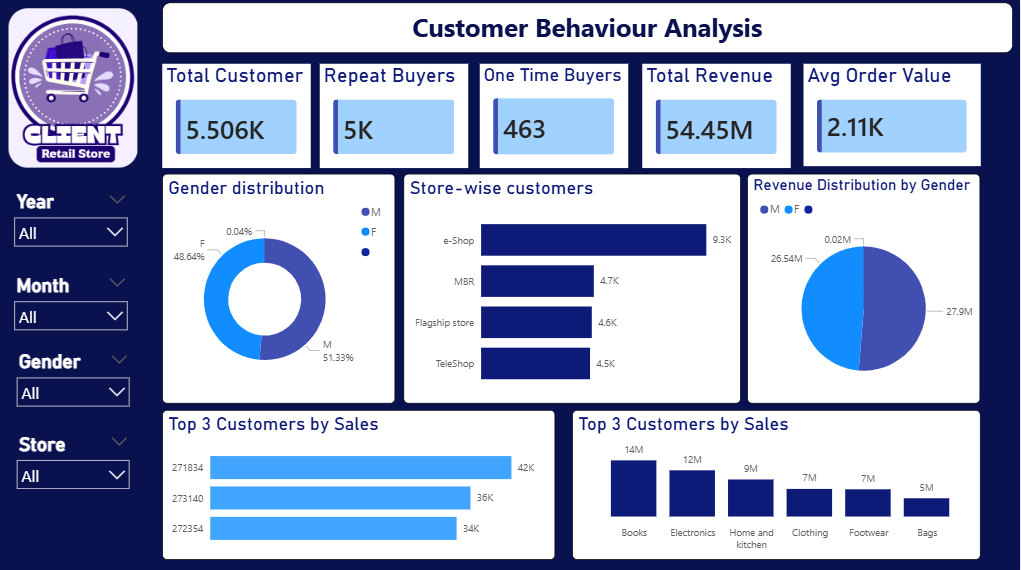

Layout of this report page (visuals, bound fields, positions):
{"tool":"powerbi","page":{"name":"Customer Behaviour Analysis","canvas":[1280,720],"ordinal":2},"visuals":[{"type":"cardVisual","title":"Total Customer","fields":{"Data":["Count(Transactions.cust_id)"]},"box":[207.2,79.6,185.2,130.4],"z":0},{"type":"cardVisual","title":"Repeat Buyers","fields":{"Data":["Transactions.repeat Buyer"]},"box":[405.1,79.5,185.9,130.8],"z":1000},{"type":"cardVisual","title":"One Time Buyers","fields":{"Data":["Transactions.One Time Buyers"]},"box":[605.1,79.5,185.9,130.8],"z":2000},{"type":"cardVisual","title":"Total Revenue","fields":{"Data":["Transactions.totalSale"]},"box":[807.7,79.5,185.9,130.8],"z":3000},{"type":"cardVisual","title":"Avg Order Value","fields":{"Data":["Avg(Transactions.total_amt)"]},"box":[1009,79.5,221.8,128.2],"z":4000},{"type":"donutChart","title":"Gender distribution","fields":{"Category":["Transactions.Customer.Gender"],"Y":["Count(Transactions.cust_id)"]},"box":[207.7,216.7,291,287.2],"z":5000},{"type":"barChart","title":"Store-wise customers","fields":{"Y":["CountNonNull(Transactions.Customer.Gender)"],"Category":["Transactions.Store_type"]},"box":[509,216.7,421.8,287.2],"z":6000},{"type":"pieChart","title":"Revenue Distribution by Gender","fields":{"Category":["Transactions.Customer.Gender"],"Y":["Transactions.totalSale"]},"box":[939.7,216.7,291,287.2],"z":7000},{"type":"barChart","title":"Top 3 Customers by Sales","fields":{"Category":["Transactions.cust_id"],"Y":["Sum(Transactions.total_amt)"]},"box":[207.7,512.8,491,187.2],"z":8000},{"type":"columnChart","title":"Top 3 Customers by Sales","fields":{"Y":["Transactions.totalSale"],"Category":["Transactions.prod_cat_info.prod_cat"]},"box":[720.5,512.8,510.3,187.2],"z":9000},{"type":"textbox","box":[207.7,2.6,1062.8,62.8],"z":10000},{"type":"image","box":[15.4,2.6,161.5,214.1],"z":11000},{"type":"slicer","fields":{"Values":["Transactions.year"]},"box":[12.3,233.3,161.9,81],"z":12000},{"type":"slicer","fields":{"Values":["Transactions.tran_date.Variation.Date Hierarchy.Month"]},"box":[12.3,337.6,161.9,81],"z":13000},{"type":"slicer","fields":{"Values":["Transactions.Store_type"]},"box":[15.4,535.9,161.5,80.8],"z":14000},{"type":"slicer","fields":{"Values":["Transactions.Customer.Gender"]},"box":[15.4,432.1,161.5,80.8],"z":15000}]}

Visuals, with their boxes in screenshot pixels (x1, y1, x2, y2), scaled from the page's 1280x720 canvas onto the 1021x570 screenshot:
"Total Customer" cardVisual: pyautogui.locateOnScreen(165, 63, 313, 166)
"Repeat Buyers" cardVisual: pyautogui.locateOnScreen(323, 63, 471, 166)
"One Time Buyers" cardVisual: pyautogui.locateOnScreen(483, 63, 631, 166)
"Total Revenue" cardVisual: pyautogui.locateOnScreen(644, 63, 793, 166)
"Avg Order Value" cardVisual: pyautogui.locateOnScreen(805, 63, 982, 164)
"Gender distribution" donutChart: pyautogui.locateOnScreen(166, 172, 398, 399)
"Store-wise customers" barChart: pyautogui.locateOnScreen(406, 172, 742, 399)
"Revenue Distribution by Gender" pieChart: pyautogui.locateOnScreen(750, 172, 982, 399)
"Top 3 Customers by Sales" barChart: pyautogui.locateOnScreen(166, 406, 557, 554)
"Top 3 Customers by Sales" columnChart: pyautogui.locateOnScreen(575, 406, 982, 554)
textbox: pyautogui.locateOnScreen(166, 2, 1013, 52)
image: pyautogui.locateOnScreen(12, 2, 141, 172)
slicer - Transactions.year: pyautogui.locateOnScreen(10, 185, 139, 249)
slicer - Transactions.tran_date.Variation.Date Hierarchy.Month: pyautogui.locateOnScreen(10, 267, 139, 331)
slicer - Transactions.Store_type: pyautogui.locateOnScreen(12, 424, 141, 488)
slicer - Transactions.Customer.Gender: pyautogui.locateOnScreen(12, 342, 141, 406)
